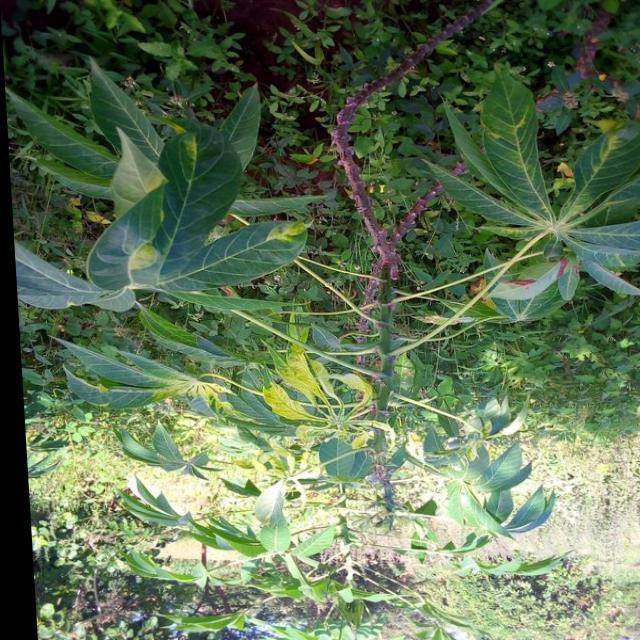Mosaico: (44, 154, 289, 318), (251, 323, 419, 494), (479, 122, 640, 244)
